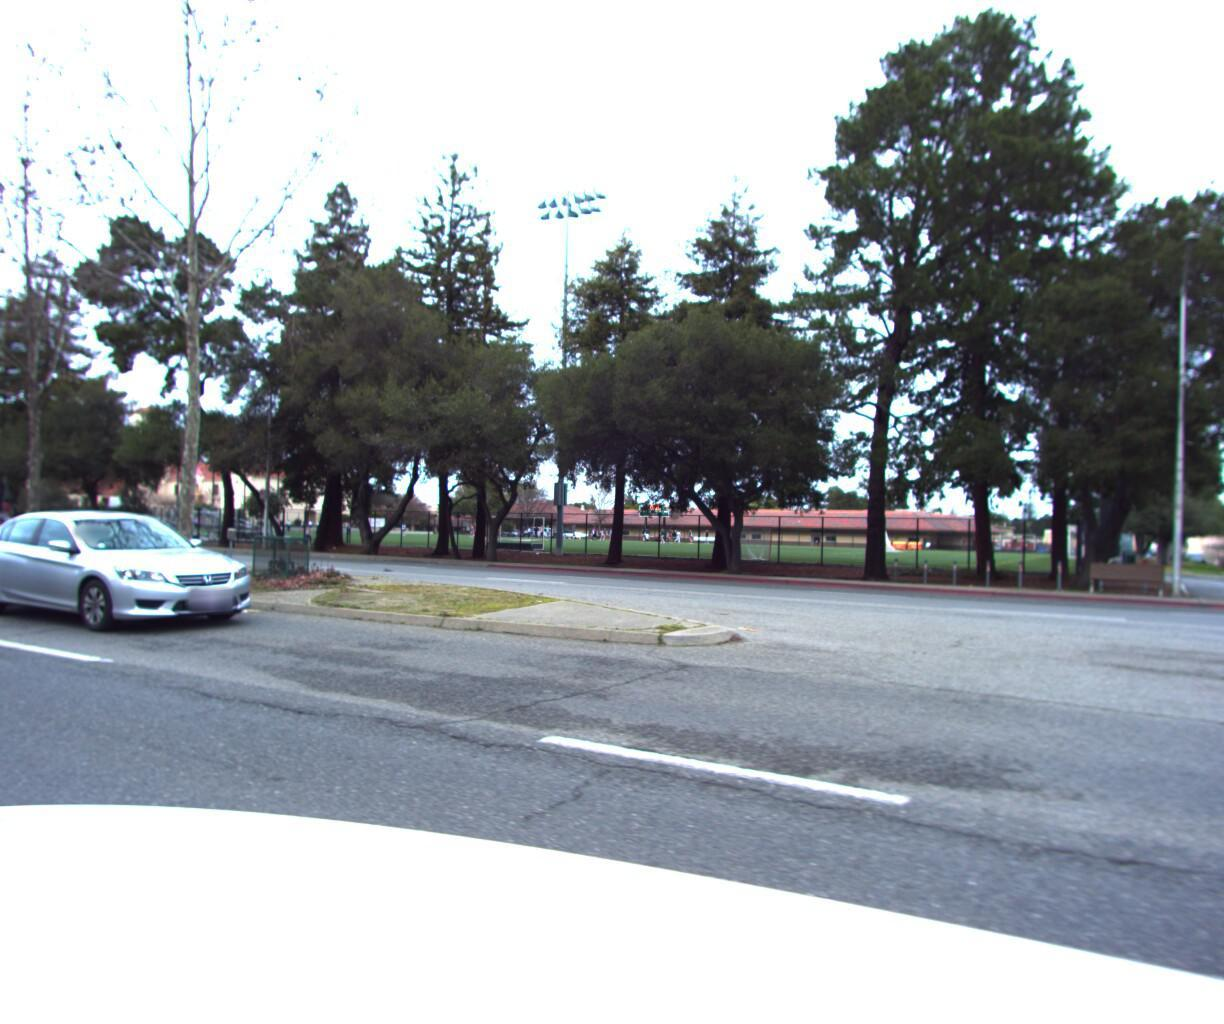car: (0, 496, 290, 649), (0, 513, 5, 543)
